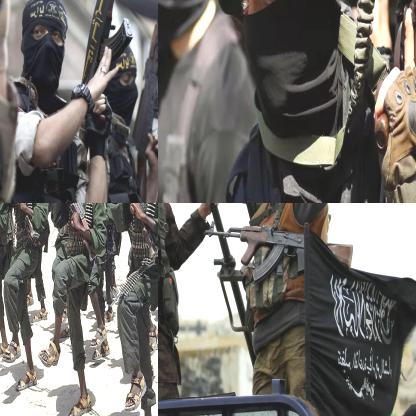rifle: (201, 218, 357, 284), (73, 0, 140, 128), (129, 0, 157, 157), (89, 203, 157, 261), (26, 203, 93, 257)
